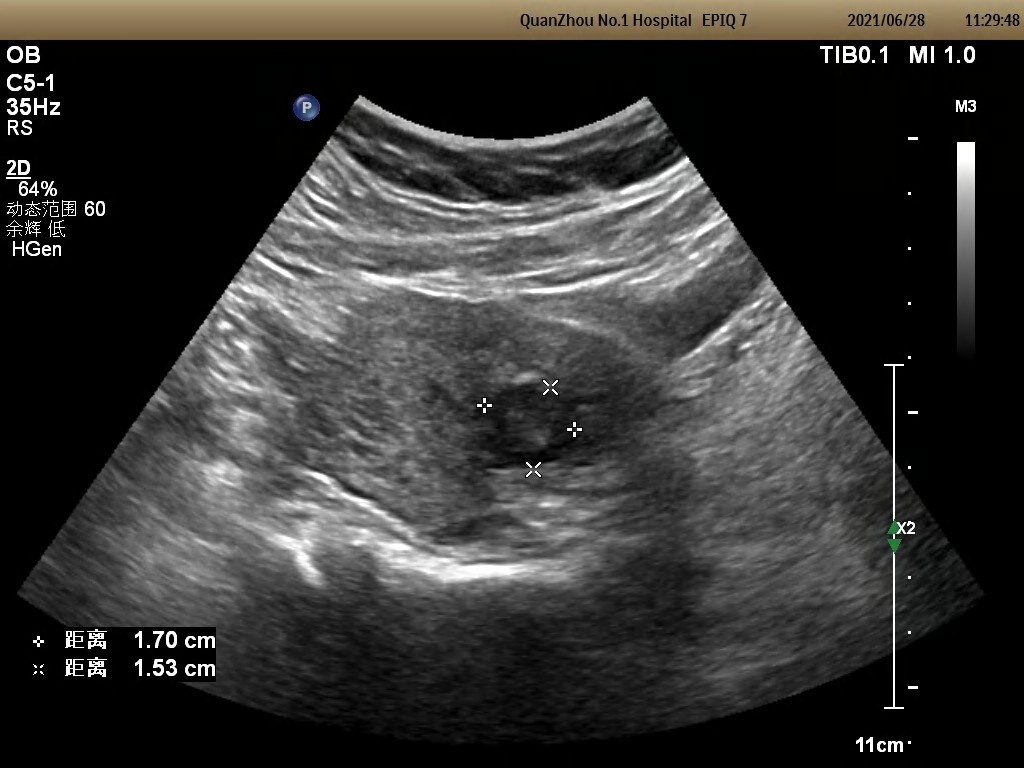肌瘤: (484, 387, 576, 470)
